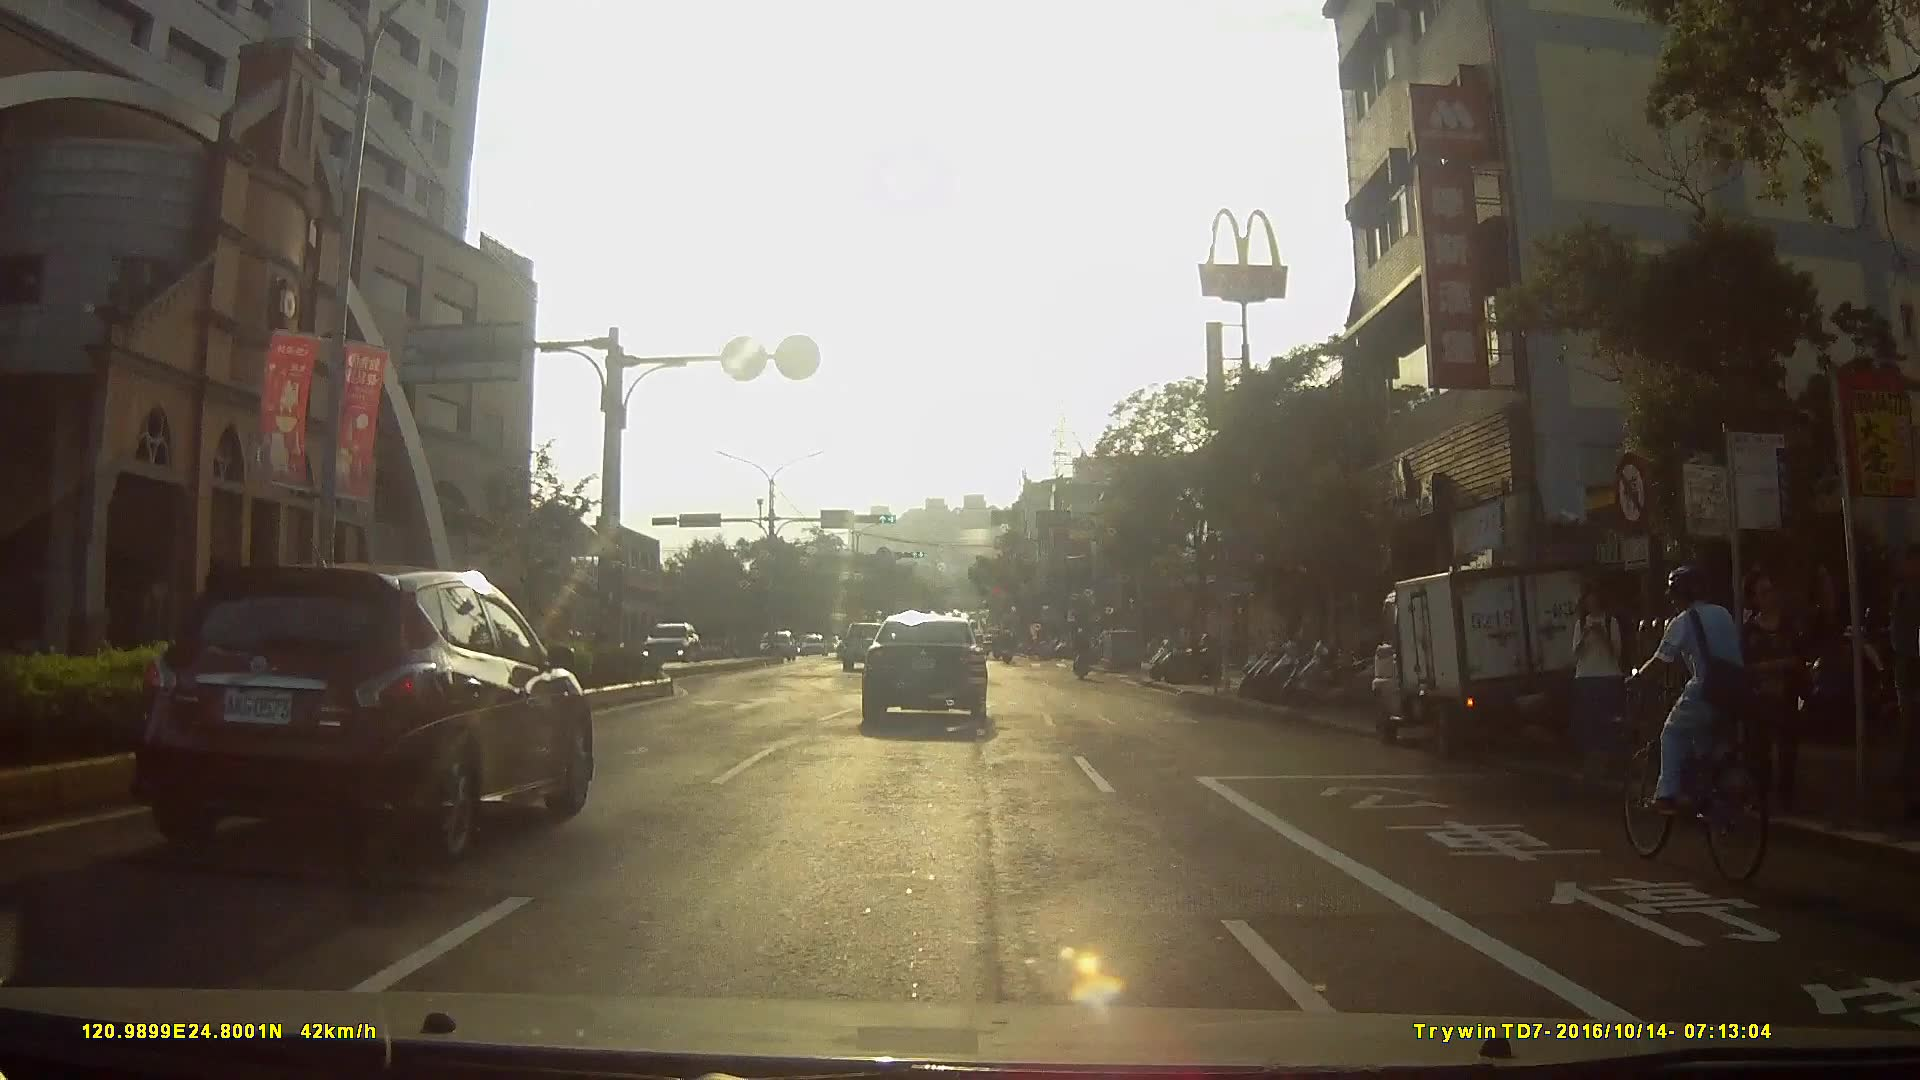pedestrian: (1750, 567, 1826, 826), (1570, 585, 1624, 778)
rider: (1616, 563, 1773, 887), (1071, 624, 1097, 685)
vehicle: (116, 559, 602, 858), (1363, 551, 1628, 764), (861, 611, 1004, 735), (634, 621, 703, 669), (837, 620, 896, 675), (746, 627, 789, 663), (791, 631, 824, 657)
